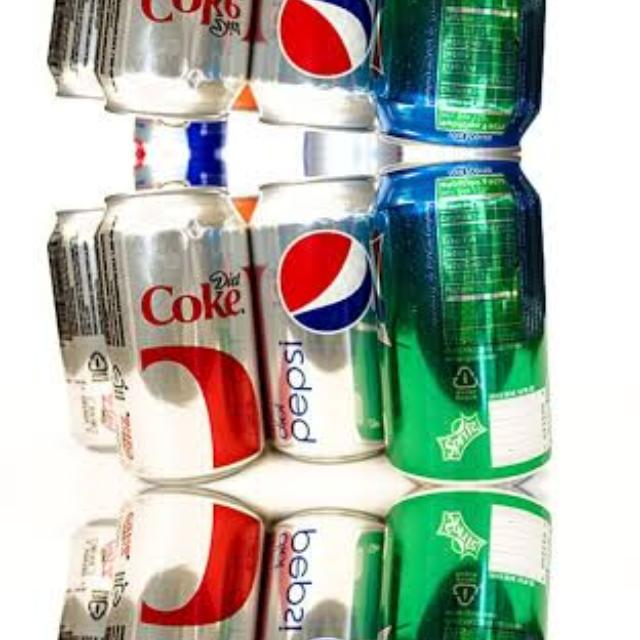Metal: (376, 153, 554, 485), (95, 184, 263, 486), (250, 174, 396, 466), (376, 485, 553, 640), (376, 0, 553, 153), (95, 485, 263, 640), (49, 206, 138, 452), (95, 0, 263, 121), (250, 505, 395, 640), (250, 0, 395, 132), (48, 518, 137, 640), (48, 0, 137, 100)
